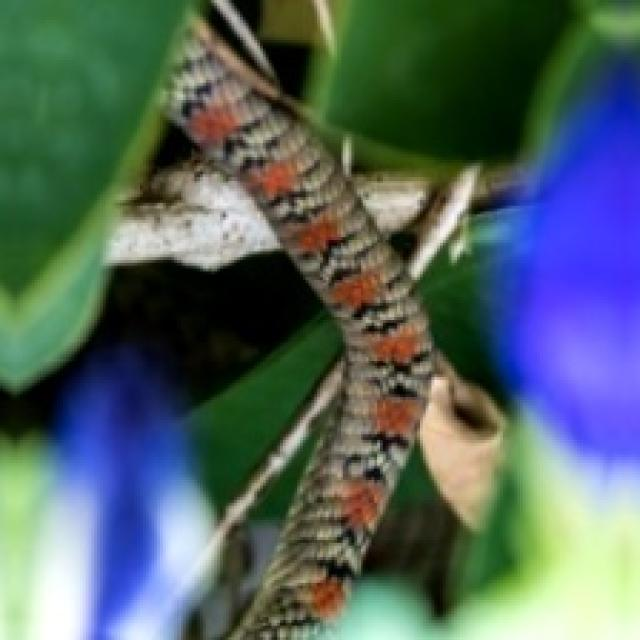paradise tree snake: (169, 20, 431, 637)
